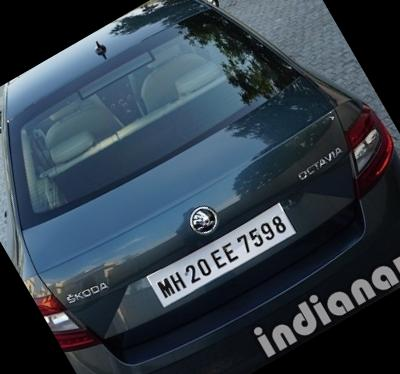plate: (137, 182, 320, 322)
